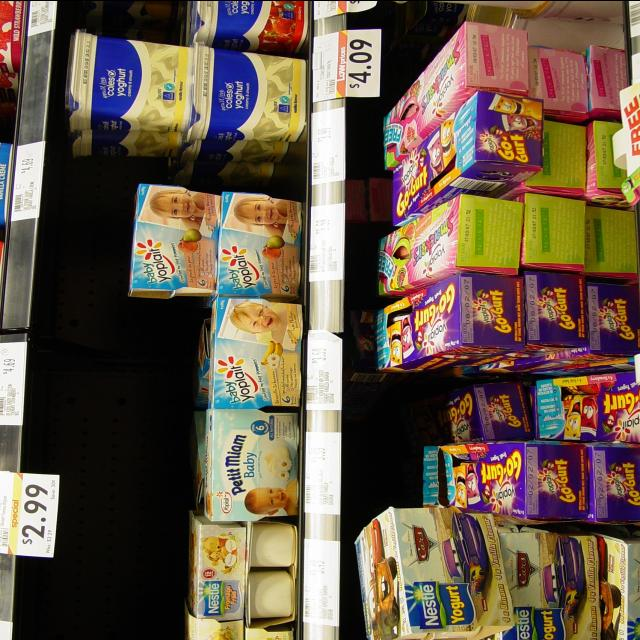empty_space: (77, 312, 185, 628), (182, 146, 296, 182)
